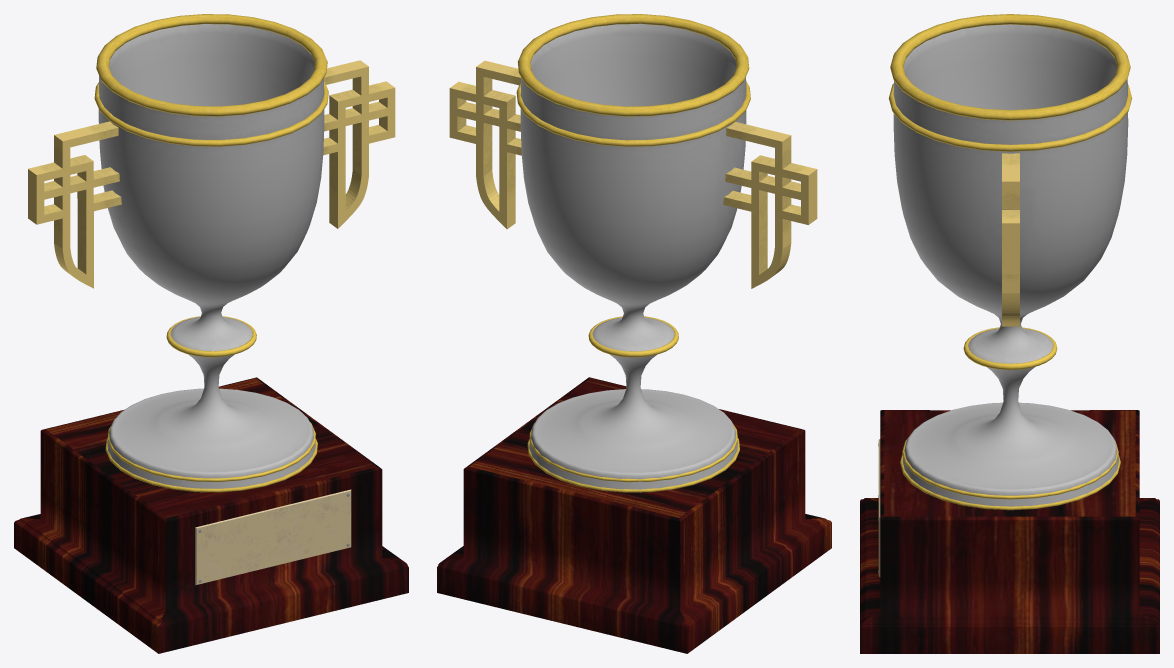
Rendered from trophy.glb.
The picture shows the model from 3 angles, left to right: view 1: azimuth 30°, elevation 25°; view 2: azimuth 150°, elevation 25°; view 3: azimuth 270°, elevation 25°; orthographic projection. The views are drawn at different scales.
Parts seen in each view (by area): view 1: object 13, base_madeira_low, handle_right_low, placa_low, aro01_low, aro02_low, aro05_low, aro04_low, aro03_low; view 2: object 13, base_madeira_low, handle_right_low, aro01_low, aro02_low, aro05_low, aro04_low, aro03_low; view 3: object 13, base_madeira_low, aro01_low, handle_right_low, aro02_low, aro05_low, aro04_low, aro03_low.
Part boxes in pixels (<box>): object 13: <box>98,24,324,488</box>; base_madeira_low: <box>14,377,408,653</box>; handle_right_low: <box>28,60,395,288</box>; placa_low: <box>195,489,351,585</box>; aro01_low: <box>96,14,327,116</box>; aro02_low: <box>94,81,328,146</box>; aro05_low: <box>105,438,317,492</box>; aro04_low: <box>107,422,315,481</box>; aro03_low: <box>166,316,256,357</box>; object 13: <box>520,23,746,492</box>; base_madeira_low: <box>437,377,831,653</box>; handle_right_low: <box>449,60,817,288</box>; aro01_low: <box>517,14,749,116</box>; aro02_low: <box>516,82,750,146</box>; aro05_low: <box>527,438,739,492</box>; aro04_low: <box>529,423,737,482</box>; aro03_low: <box>588,316,678,357</box>; object 13: <box>893,24,1128,506</box>; base_madeira_low: <box>860,410,1159,653</box>; aro01_low: <box>890,14,1130,120</box>; handle_right_low: <box>1002,153,1019,326</box>; aro02_low: <box>888,83,1132,151</box>; aro05_low: <box>900,454,1120,510</box>; aro04_low: <box>902,438,1118,499</box>; aro03_low: <box>963,327,1057,369</box>.
Size of the model in its own units: 1.47 by 2 by 1.03.
Materials: 10 (10 with a texture image).
